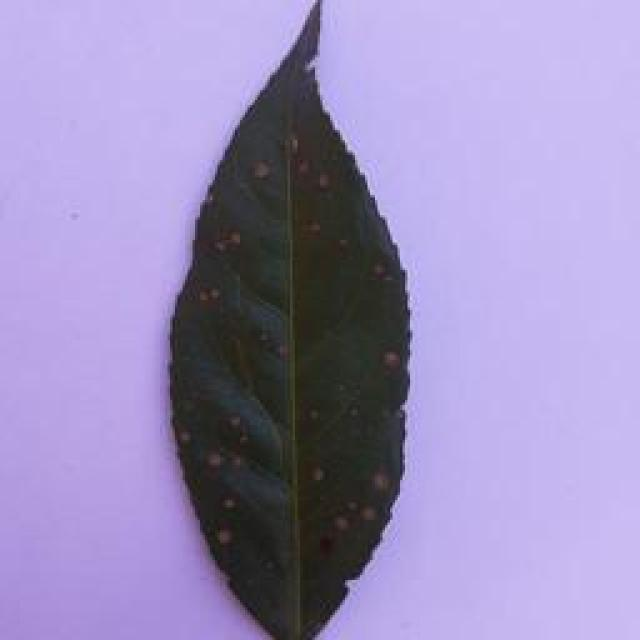Algal Leaf Spot: (160, 0, 452, 640)
